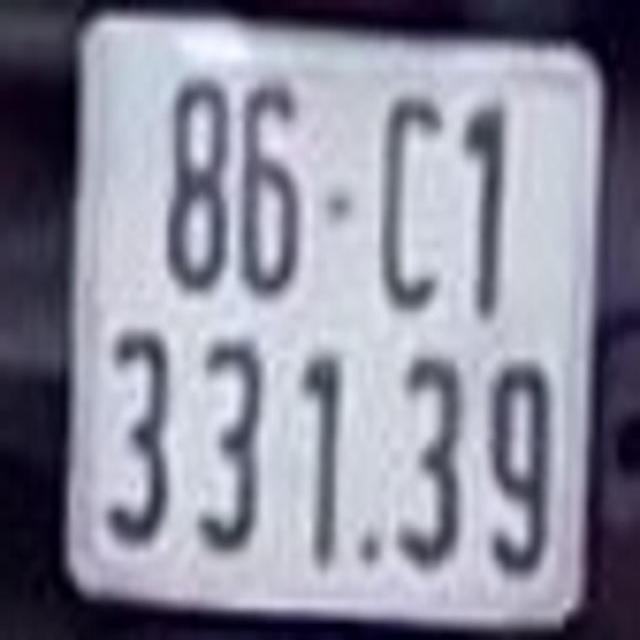1: (458, 97, 504, 321), (298, 356, 337, 564)
3: (112, 328, 172, 547), (202, 337, 261, 554), (405, 358, 462, 564)
6: (240, 84, 302, 295)
8: (167, 77, 228, 282)
9: (491, 354, 548, 570)
C: (373, 96, 444, 310)
